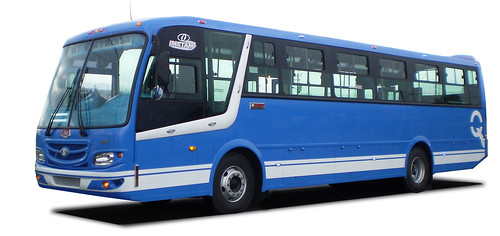bus: (34, 15, 487, 214)
